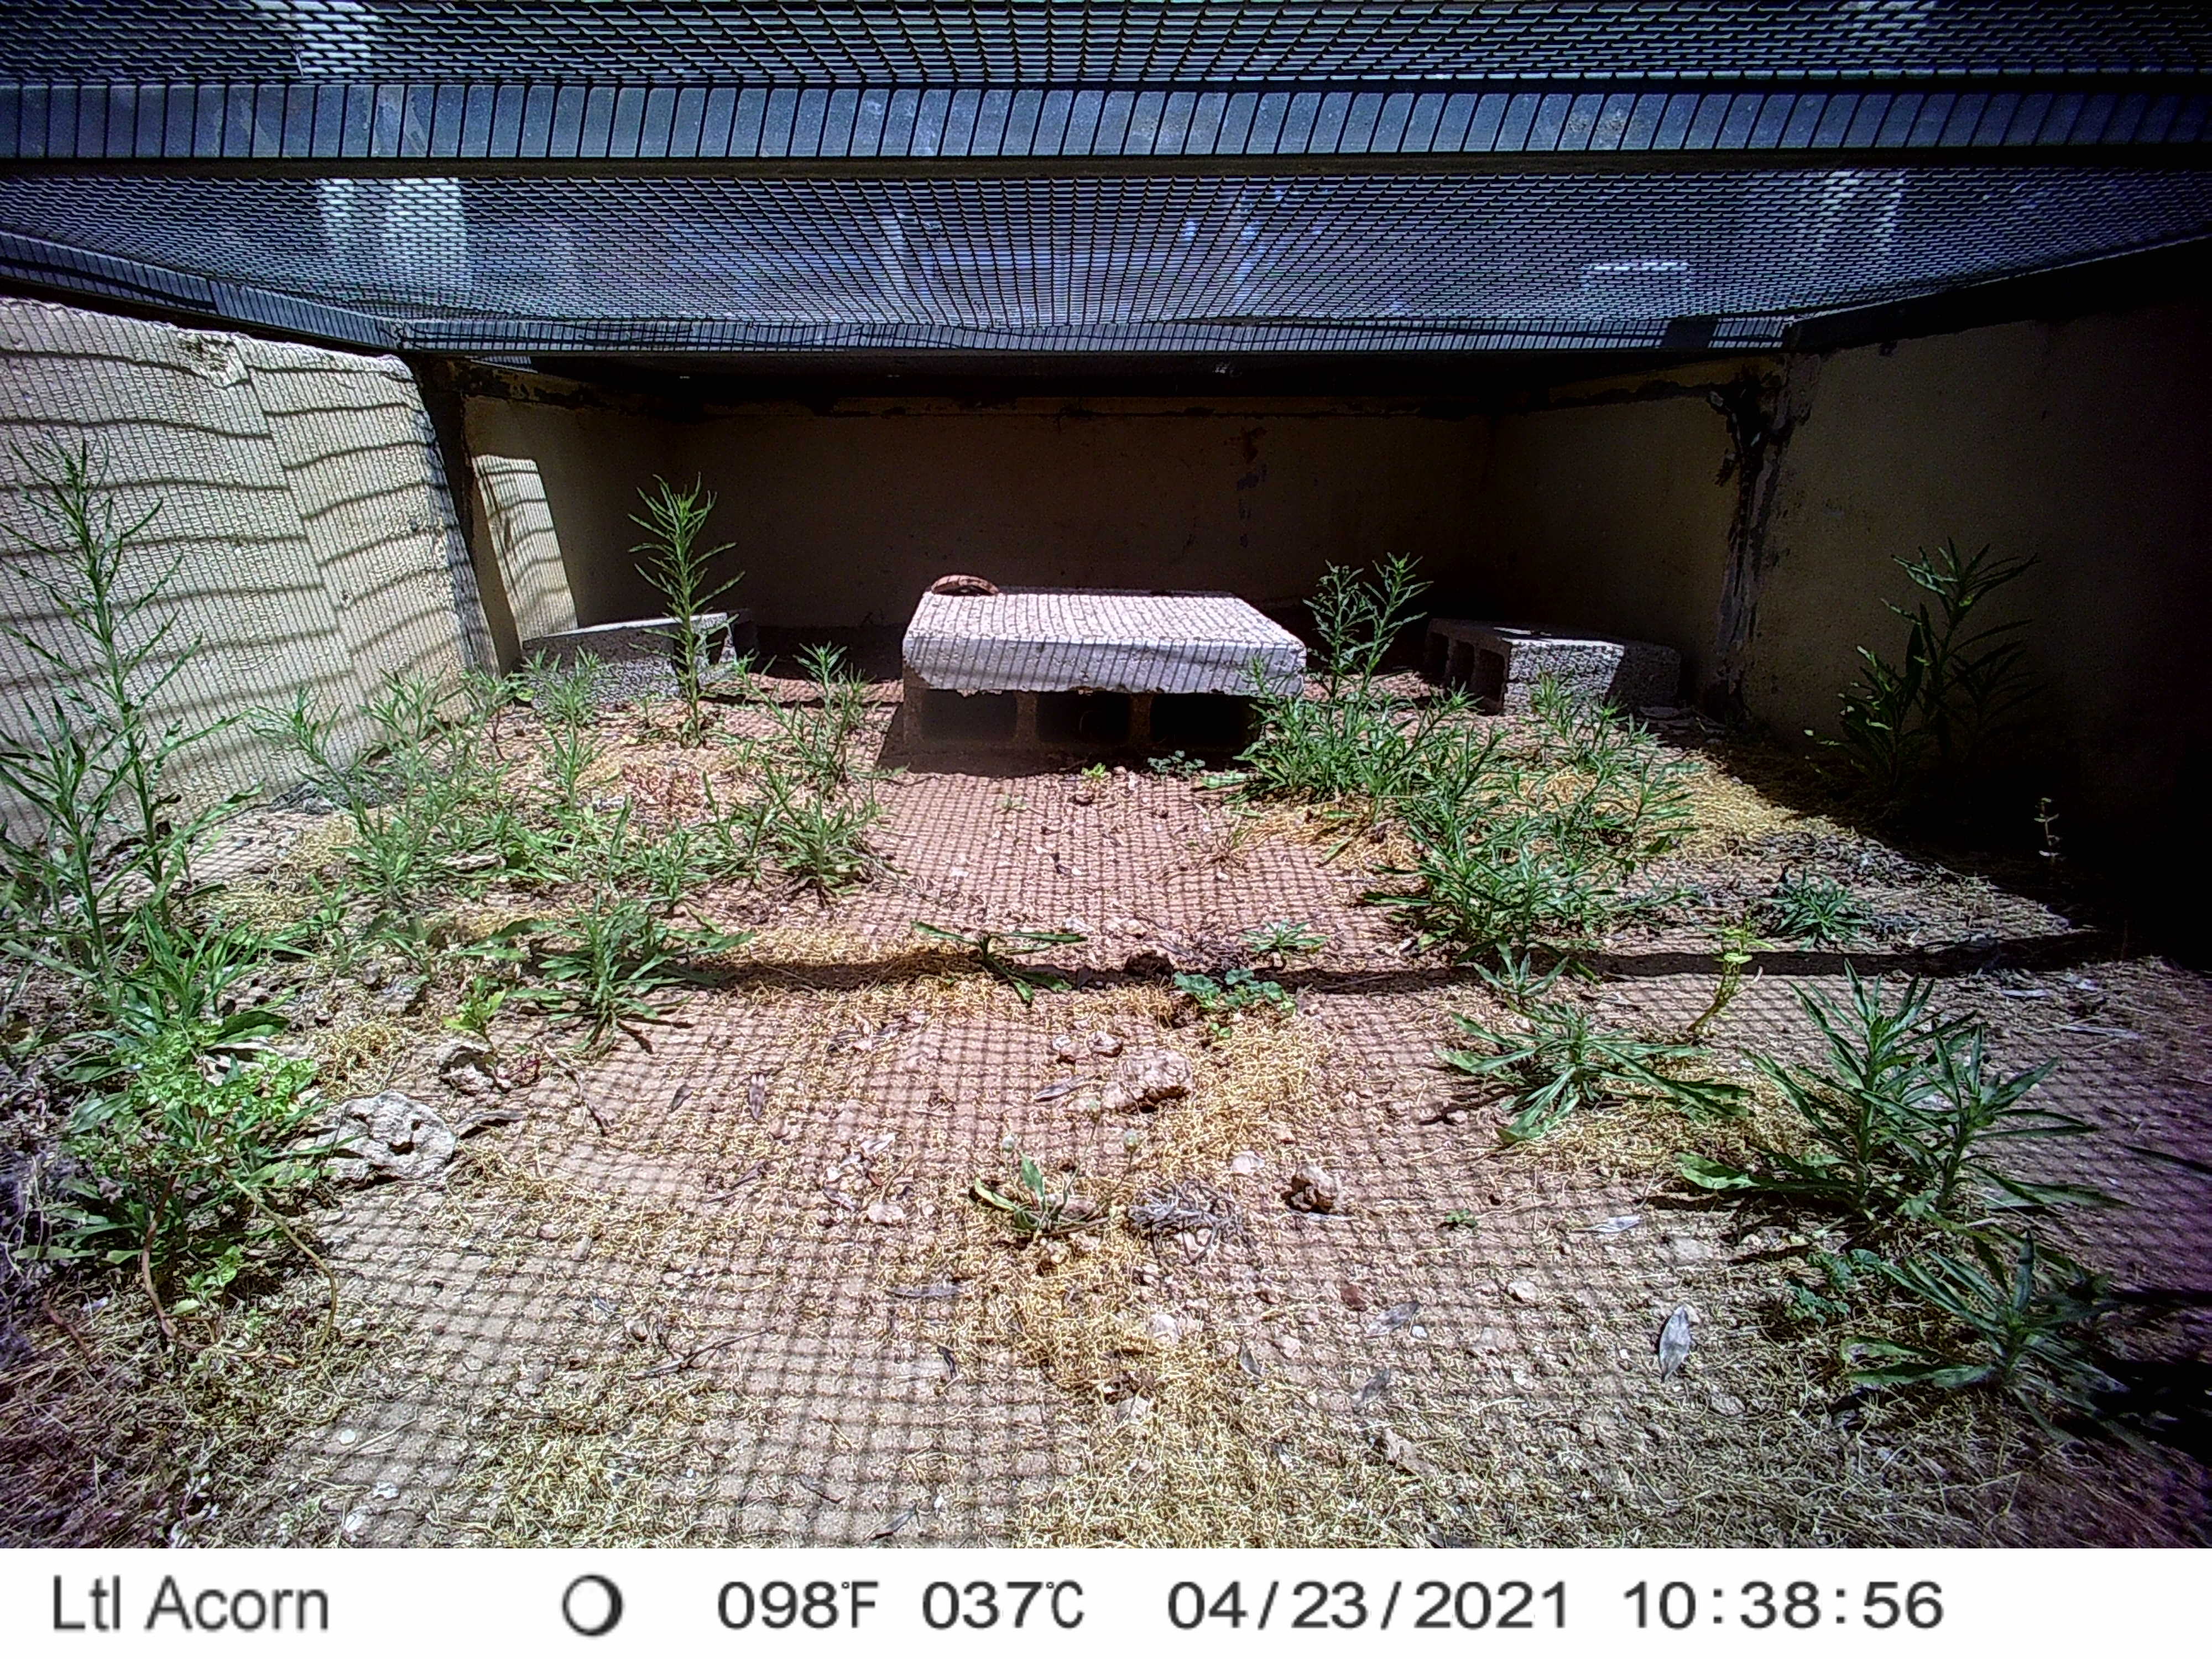lizard: (1700, 376, 1817, 606)
